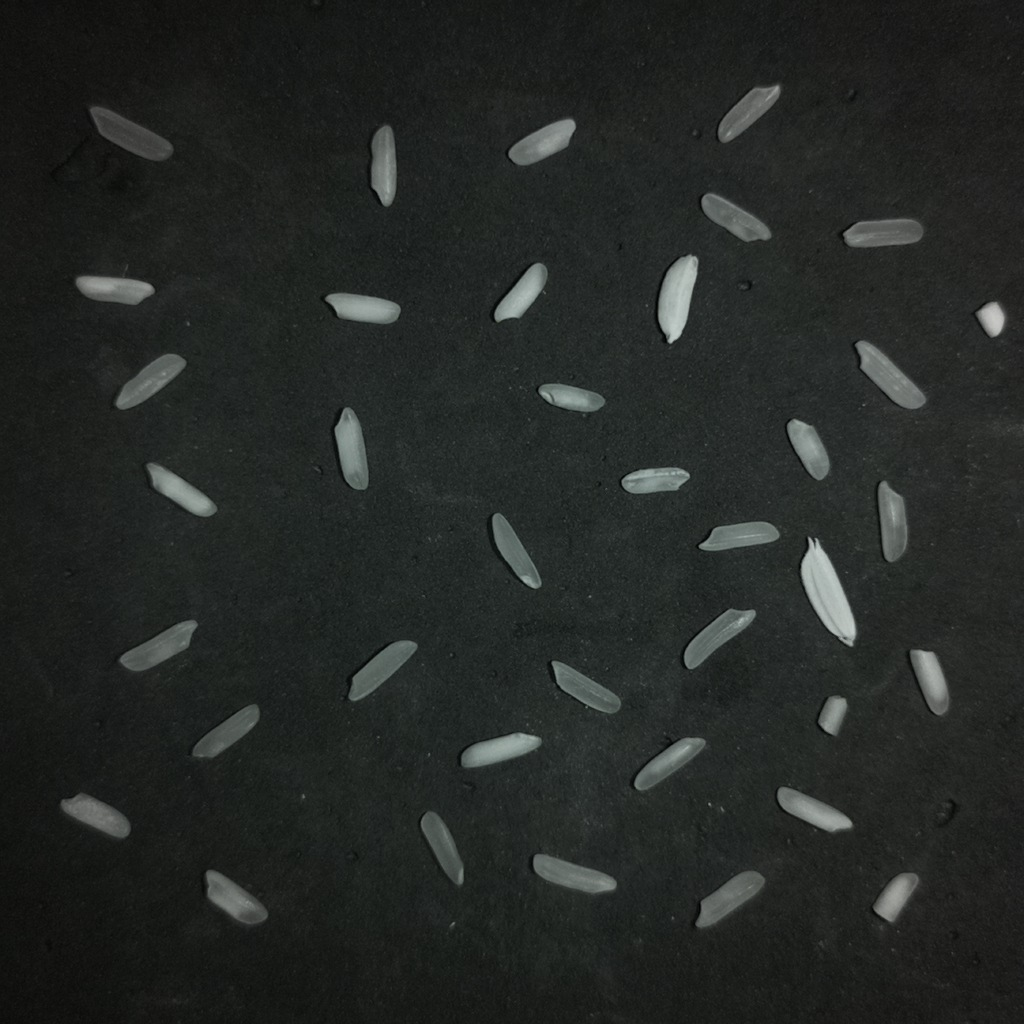chalky: (145, 463, 216, 516), (205, 870, 267, 925), (777, 787, 852, 832), (532, 854, 616, 894), (493, 263, 547, 321), (61, 793, 130, 838), (508, 119, 575, 165), (460, 732, 541, 767), (334, 407, 368, 490), (786, 419, 828, 480), (910, 650, 949, 715), (324, 292, 400, 324), (872, 872, 918, 922), (75, 275, 154, 304), (370, 124, 396, 206), (538, 383, 604, 412), (621, 467, 689, 493), (817, 697, 847, 736), (975, 301, 1005, 337)
foreign: (800, 538, 856, 646), (657, 255, 698, 343)
whole: (854, 341, 925, 409), (89, 106, 172, 160), (683, 609, 755, 669), (348, 640, 417, 700), (118, 620, 196, 671), (114, 354, 186, 409), (695, 870, 764, 927), (634, 737, 706, 791), (491, 513, 541, 588), (191, 704, 259, 758), (717, 84, 780, 142), (550, 660, 620, 712), (701, 193, 771, 241), (420, 811, 463, 885), (877, 481, 907, 562), (698, 521, 779, 551), (843, 219, 923, 247)
